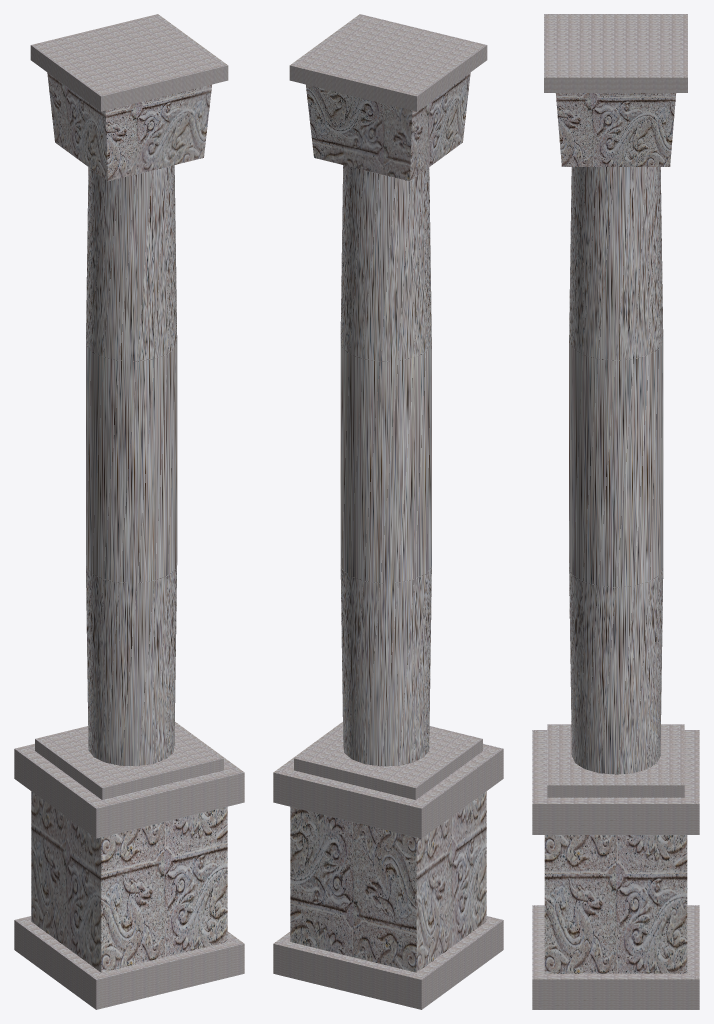
The model's file is Stone_Column.fbx.
The picture shows the model from 3 angles, left to right: view 1: azimuth 30°, elevation 25°; view 2: azimuth 150°, elevation 25°; view 3: azimuth 270°, elevation 25°; orthographic projection. The views are drawn at different scales.
Parts seen in each view (by area): view 1: pCylinder1, Base_Bottom, pCube7, pCube5, Base_top, Base_bot, pCube4; view 2: pCylinder1, Base_Bottom, pCube7, pCube5, Base_top, Base_bot, pCube4; view 3: pCylinder1, Base_Bottom, pCube7, Base_top, pCube5, Base_bot, pCube4.
Boxes of the visible parts, x1,y1,x2,y2 form: pCylinder1: [86, 165, 177, 766]; Base_Bottom: [31, 791, 227, 972]; pCube7: [30, 14, 228, 111]; pCube5: [47, 72, 212, 181]; Base_top: [14, 722, 244, 838]; Base_bot: [14, 916, 244, 1009]; pCube4: [35, 723, 223, 799]; pCylinder1: [340, 165, 431, 766]; Base_Bottom: [290, 791, 486, 972]; pCube7: [289, 14, 487, 111]; pCube5: [305, 72, 470, 181]; Base_top: [273, 722, 503, 838]; Base_bot: [273, 916, 503, 1009]; pCube4: [294, 723, 482, 799]; pCylinder1: [569, 167, 663, 774]; Base_Bottom: [544, 835, 687, 973]; pCube7: [544, 14, 687, 92]; Base_top: [532, 730, 699, 834]; pCube5: [555, 93, 676, 166]; Base_bot: [532, 905, 699, 1009]; pCube4: [547, 724, 684, 797].
Size of the model in its own units: 2.9 by 16.93 by 2.77.
4 materials, 4 textured.
